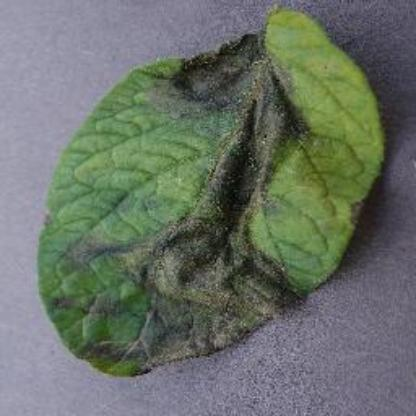Late-Blight: (37, 7, 388, 379)
